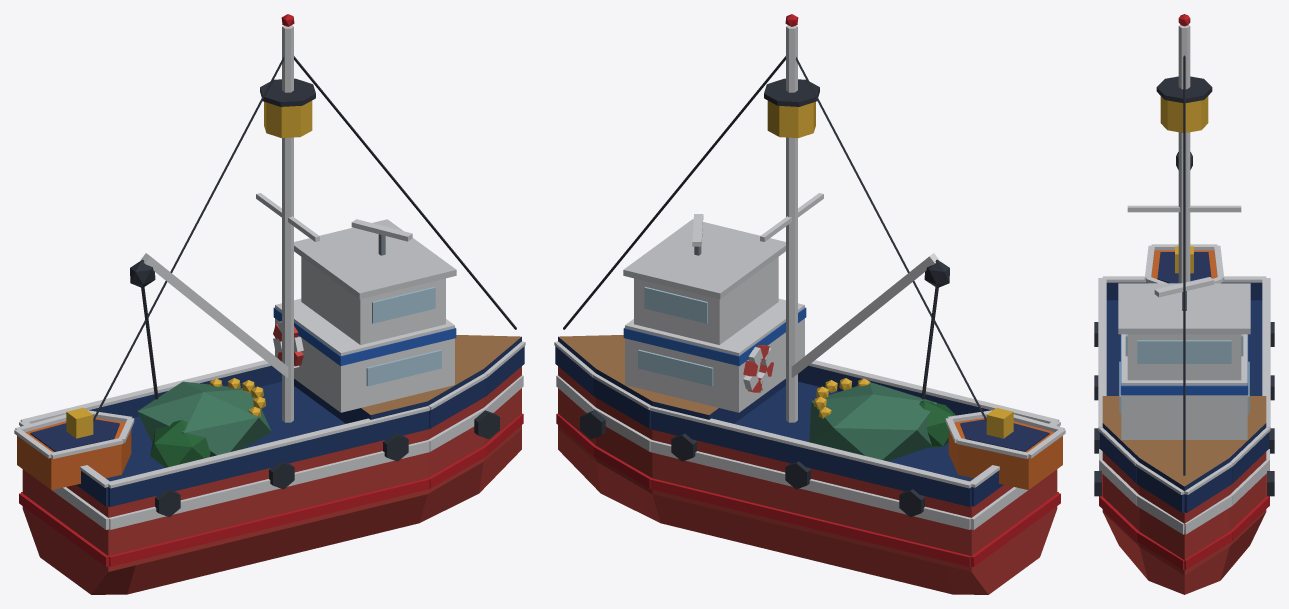
Rendered from boat_tuna.glb.
3 renders of one model, left to right at view 1: azimuth 30°, elevation 25°; view 2: azimuth 150°, elevation 25°; view 3: azimuth 270°, elevation 25°, orthographic. The views are drawn at different scales.
Parts seen in each view (by area): view 1: boat_tuna; view 2: boat_tuna; view 3: boat_tuna.
Part boxes in pixels (<box>): boat_tuna: <box>14,14,525,594</box>; boat_tuna: <box>554,14,1065,594</box>; boat_tuna: <box>1094,14,1274,594</box>.
Size of the model in its own units: 8.64 by 8.51 by 2.86.
